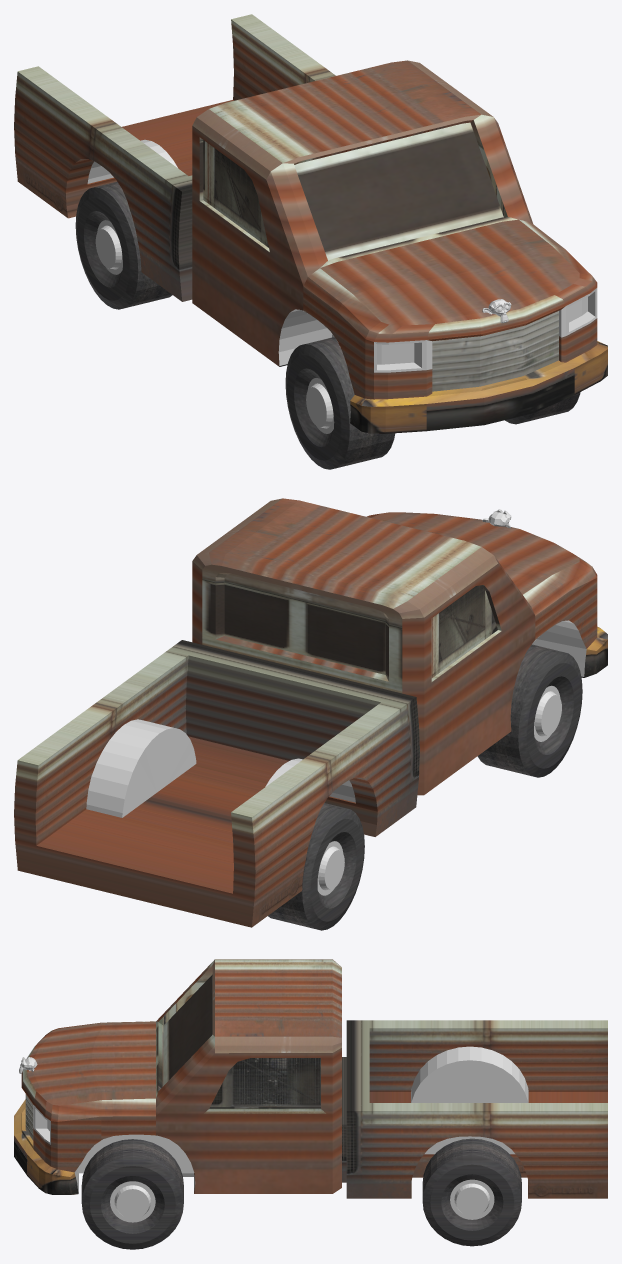
Rendered from Truck 1.fbx.
3 renders of one model, top to bottom at view 1: azimuth 30°, elevation 25°; view 2: azimuth 150°, elevation 25°; view 3: azimuth 270°, elevation 25°, orthographic. The views are drawn at different scales.
Parts seen in each view (by area): view 1: Cube, Cube.001, Cylinder.014, Cylinder.004, Cylinder.019, Cylinder.001; view 2: Cube.001, Cube, Cylinder.014, Cylinder.001, Cylinder.004; view 3: Cube, Cube.001, Cylinder.019, Cylinder.003, Cylinder.001.
Part boxes in pixels (box(x1,y1,x2,y2)): Cube: box(192, 60, 607, 433); Cube.001: box(14, 14, 335, 301); Cylinder.014: box(285, 337, 395, 469); Cylinder.004: box(75, 181, 172, 309); Cylinder.019: box(505, 392, 580, 424); Cylinder.001: box(87, 139, 177, 183); Cube.001: box(14, 640, 419, 927); Cube: box(192, 498, 607, 795); Cylinder.014: box(477, 644, 582, 777); Cylinder.001: box(86, 719, 355, 817); Cylinder.004: box(268, 803, 364, 930); Cube: box(14, 959, 341, 1194); Cube.001: box(342, 1020, 607, 1198); Cylinder.019: box(81, 1139, 183, 1249); Cylinder.003: box(422, 1138, 521, 1246); Cylinder.001: box(411, 1046, 528, 1154).
Bounding box in the file's own units: 551 × 560 × 1450.
